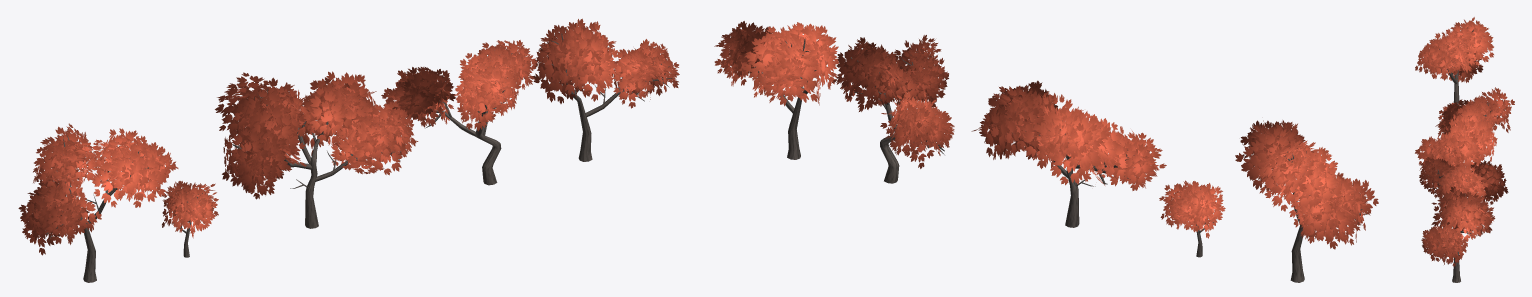
Rendered from maple_trees_free_model_lo.glb.
3 views of the same model, side by side, from view 1: azimuth 30°, elevation 25°; view 2: azimuth 150°, elevation 25°; view 3: azimuth 270°, elevation 25° (orthographic). The views are drawn at different scales.
Visible parts, largest first — view 1: MapleTree_3, MapleTree_5, MapleTree_1, MapleTree_2, MapleTree_4; view 2: MapleTree_3, MapleTree_5, MapleTree_2, MapleTree_1, MapleTree_4; view 3: MapleTree_3, MapleTree_1, MapleTree_5, MapleTree_2, MapleTree_4.
Part boxes in pixels (x1,y1,x2,y2): MapleTree_3: [215, 71, 418, 228]; MapleTree_5: [18, 123, 178, 282]; MapleTree_1: [532, 18, 679, 161]; MapleTree_2: [381, 40, 537, 185]; MapleTree_4: [162, 181, 218, 257]; MapleTree_3: [971, 80, 1166, 227]; MapleTree_5: [1235, 120, 1378, 282]; MapleTree_2: [832, 35, 954, 183]; MapleTree_1: [714, 21, 838, 159]; MapleTree_4: [1159, 180, 1225, 257]; MapleTree_3: [1415, 87, 1514, 170]; MapleTree_1: [1421, 186, 1495, 282]; MapleTree_5: [1415, 17, 1493, 105]; MapleTree_2: [1419, 156, 1508, 204]; MapleTree_4: [1438, 102, 1462, 125].
Bounding box in the file's own units: 34.55 × 7.72 × 7.34.
2 materials, 2 textured.
